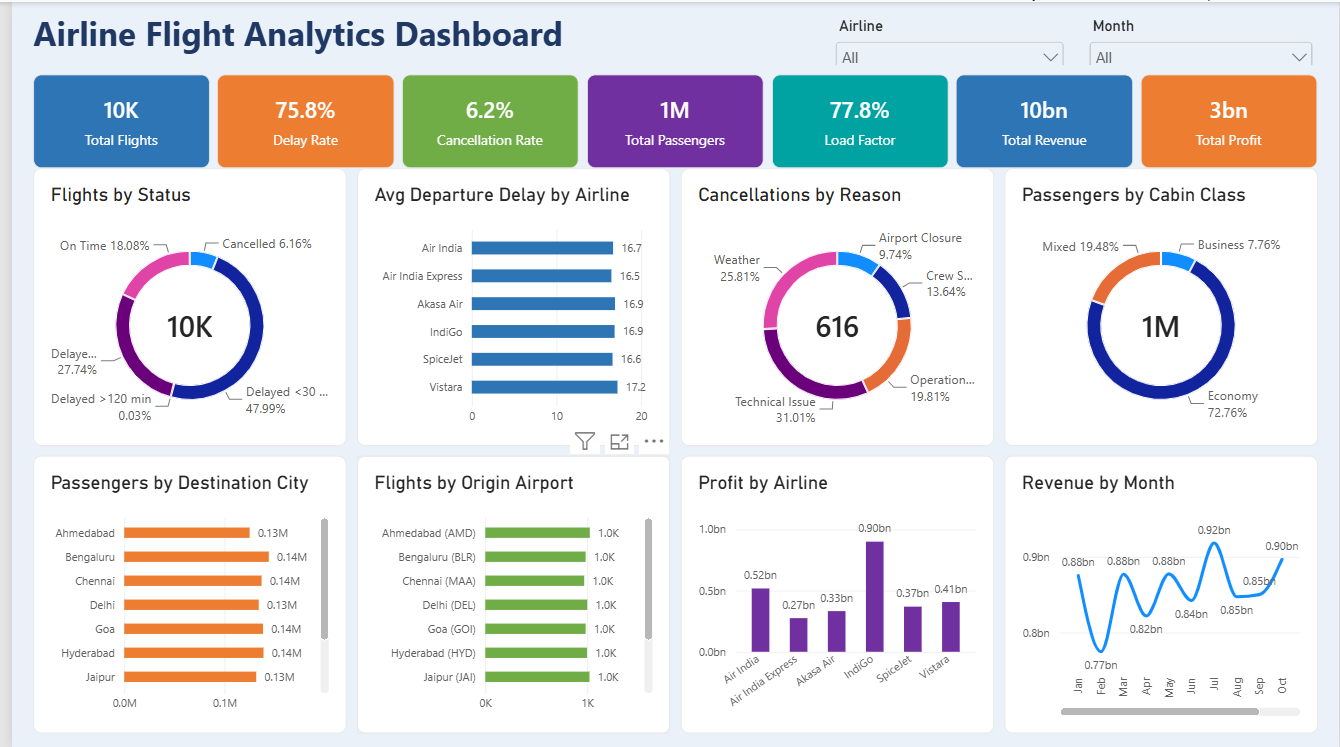

The dashboard page shown, as its layout file describes it:
{"tool":"powerbi","page":{"name":"Dashboard","canvas":[1280,720],"ordinal":0},"visuals":[{"type":"textbox","box":[20,8,760,56],"z":0},{"type":"slicer","fields":{"Values":["Flight_Data.Airline"]},"box":[790,14,230,46],"z":1000},{"type":"slicer","fields":{"Values":["Flight_Data.Month"]},"box":[1035,14,225,46],"z":2000},{"type":"card","fields":{"Values":["Flight_Data.Total Flights"]},"box":[20.5,70,170.1,90.5],"z":3000},{"type":"card","fields":{"Values":["Flight_Data.Delay Rate"]},"box":[197.9,70,171.3,90.5],"z":4000},{"type":"card","fields":{"Values":["Flight_Data.Cancellation Rate"]},"box":[376.4,70,170.1,90.5],"z":5000},{"type":"card","fields":{"Values":["Flight_Data.Total Passengers"]},"box":[555,70,170.1,90.5],"z":6000},{"type":"card","fields":{"Values":["Flight_Data.Load Factor"]},"box":[733.5,70,170.1,90.5],"z":7000},{"type":"card","fields":{"Values":["Flight_Data.Total Revenue"]},"box":[910.9,70,171.3,90.5],"z":8000},{"type":"card","fields":{"Values":["Flight_Data.Total Profit"]},"box":[1089.4,70,170.1,90.5],"z":9000},{"type":"donutChart","title":"Flights by Status","fields":{"Category":["Flight_Data.Flight_Status"],"Y":["Flight_Data.Total Flights"]},"box":[20,160,302.5,268],"z":10000},{"type":"clusteredBarChart","title":"Avg Departure Delay by Airline","fields":{"Category":["Flight_Data.Airline"],"Y":["Flight_Data.Avg Departure Delay"]},"box":[332.5,160,302.5,268],"z":11000},{"type":"donutChart","title":"Cancellations by Reason","fields":{"Category":["Flight_Data.Cancellation_Reason"],"Y":["Flight_Data.Cancelled Flights"]},"box":[645,160,302.5,268],"z":12000},{"type":"donutChart","title":"Passengers by Cabin Class","fields":{"Category":["Flight_Data.Cabin_Class"],"Y":["Flight_Data.Total Passengers"]},"box":[957.5,160,302.5,268],"z":13000},{"type":"clusteredBarChart","title":"Passengers by Destination City","fields":{"Category":["Flight_Data.Destination_City"],"Y":["Flight_Data.Total Passengers"]},"box":[20,438,302.5,268],"z":14000},{"type":"clusteredBarChart","title":"Flights by Origin Airport","fields":{"Category":["Flight_Data.Origin_Airport"],"Y":["Flight_Data.Total Flights"]},"box":[332.5,438,302.5,268],"z":15000},{"type":"clusteredColumnChart","title":"Profit by Airline","fields":{"Category":["Flight_Data.Airline"],"Y":["Flight_Data.Total Profit"]},"box":[645,438,302.5,268],"z":16000},{"type":"lineChart","title":"Revenue by Month","fields":{"Category":["Flight_Data.Month"],"Y":["Flight_Data.Total Revenue"]},"box":[957.5,438,302.5,268],"z":17000}]}

Visuals, with their boxes in screenshot pixels (x1, y1, x2, y2), scaled from the page's 1280x720 canvas onto the 1340x747 screenshot:
textbox: l=21, t=8, r=817, b=66
slicer - Flight_Data.Airline: l=827, t=15, r=1068, b=62
slicer - Flight_Data.Month: l=1084, t=15, r=1319, b=62
card - Flight_Data.Total Flights: l=21, t=73, r=200, b=167
card - Flight_Data.Delay Rate: l=207, t=73, r=387, b=167
card - Flight_Data.Cancellation Rate: l=394, t=73, r=572, b=167
card - Flight_Data.Total Passengers: l=581, t=73, r=759, b=167
card - Flight_Data.Load Factor: l=768, t=73, r=946, b=167
card - Flight_Data.Total Revenue: l=954, t=73, r=1133, b=167
card - Flight_Data.Total Profit: l=1140, t=73, r=1319, b=167
"Flights by Status" donutChart: l=21, t=166, r=338, b=444
"Avg Departure Delay by Airline" clusteredBarChart: l=348, t=166, r=665, b=444
"Cancellations by Reason" donutChart: l=675, t=166, r=992, b=444
"Passengers by Cabin Class" donutChart: l=1002, t=166, r=1319, b=444
"Passengers by Destination City" clusteredBarChart: l=21, t=454, r=338, b=732
"Flights by Origin Airport" clusteredBarChart: l=348, t=454, r=665, b=732
"Profit by Airline" clusteredColumnChart: l=675, t=454, r=992, b=732
"Revenue by Month" lineChart: l=1002, t=454, r=1319, b=732
